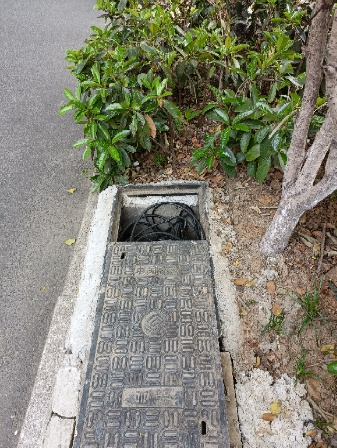uncovered: (65, 182, 245, 448)
